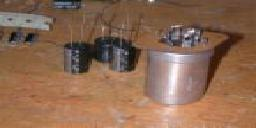Electrolytic-Capacitor: (63, 9, 91, 75), (113, 22, 142, 78), (93, 25, 117, 64)
